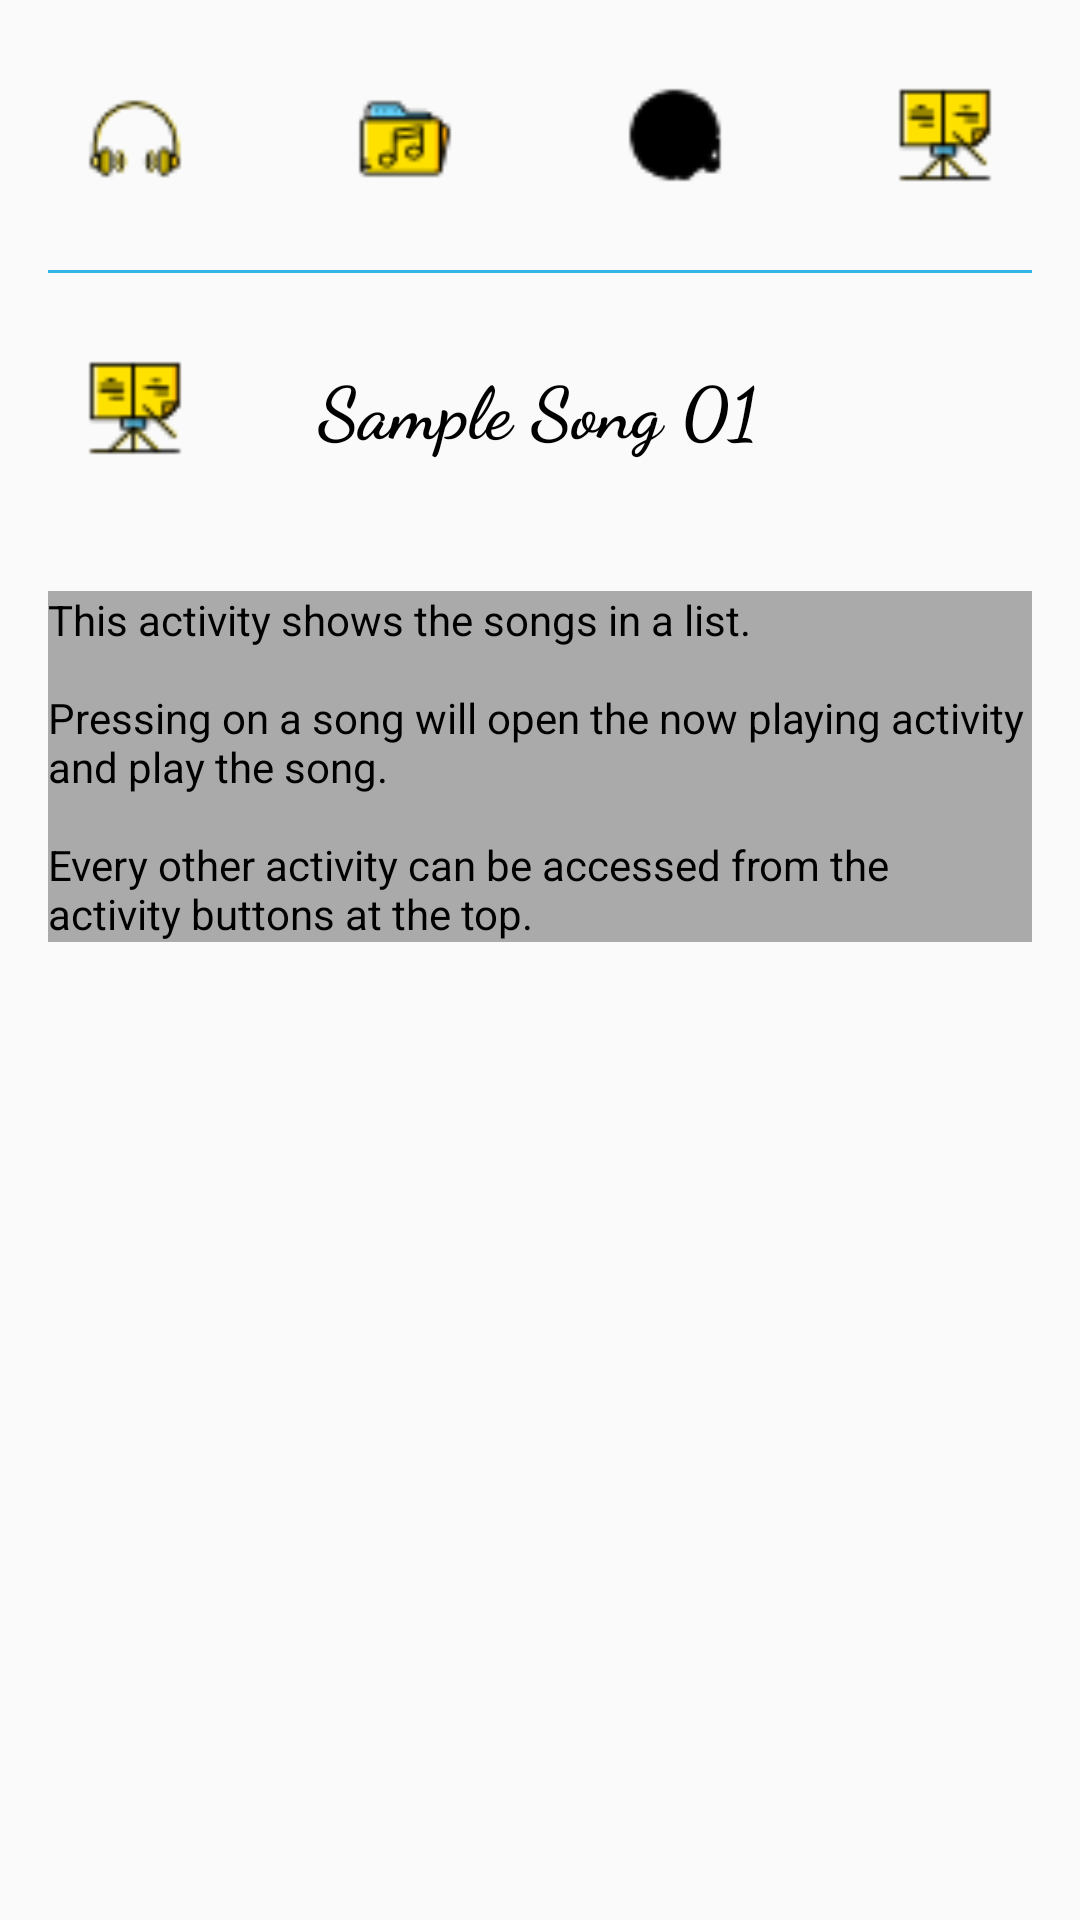

Where icons sit on this 1080 x 1920 app screen, as bbox(x1, y1, x2, y2):
nowplaying: bbox(89, 100, 181, 178)
